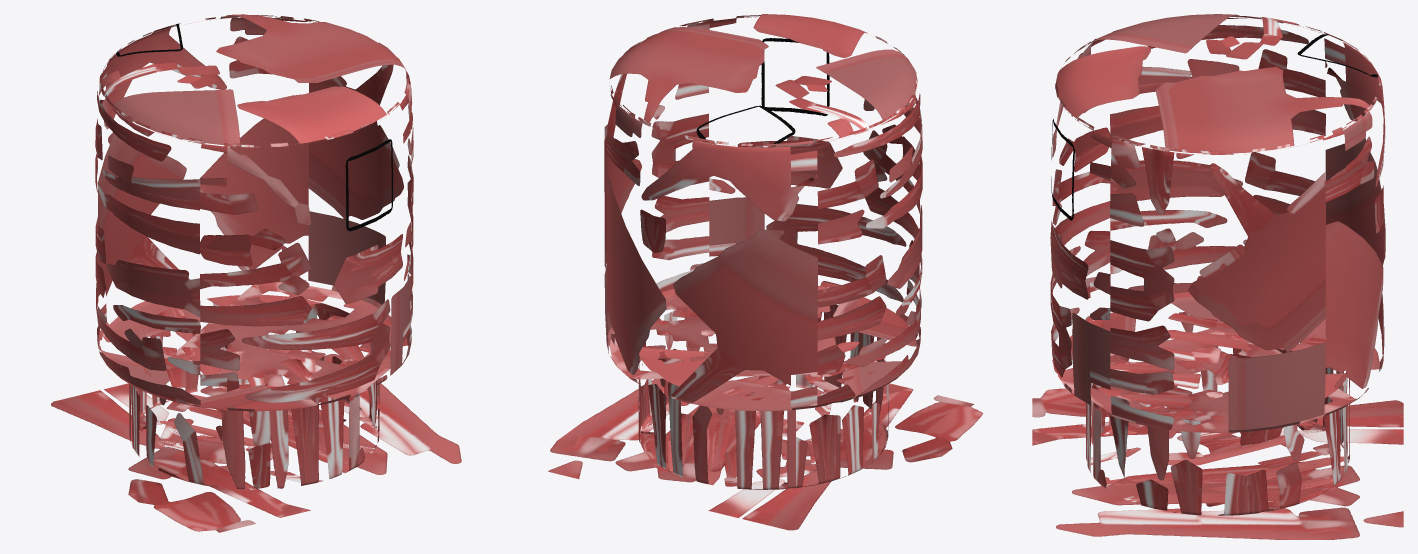
Rendered from raw_model.obj.
3 views of the same model, side by side, from view 1: azimuth 30°, elevation 25°; view 2: azimuth 150°, elevation 25°; view 3: azimuth 270°, elevation 25° (orthographic). The views are drawn at different scales.
Parts seen in each view (by area): view 1: solid_002, solid_001, shadow; view 2: solid_002, solid_001, shadow; view 3: solid_002, solid_001, shadow.
Boxes of the visible parts, x1=… form: solid_002: x1=95, y1=14, x2=413, y2=411; solid_001: x1=129, y1=295, x2=379, y2=489; shadow: x1=51, y1=349, x2=461, y2=532; solid_002: x1=604, y1=14, x2=922, y2=411; solid_001: x1=638, y1=304, x2=888, y2=489; shadow: x1=548, y1=376, x2=982, y2=530; solid_002: x1=1050, y1=14, x2=1385, y2=432; solid_001: x1=1086, y1=312, x2=1349, y2=515; shadow: x1=1032, y1=387, x2=1403, y2=539.
Size of the model in its own units: 0.3985 by 0.4612 by 0.3984.
